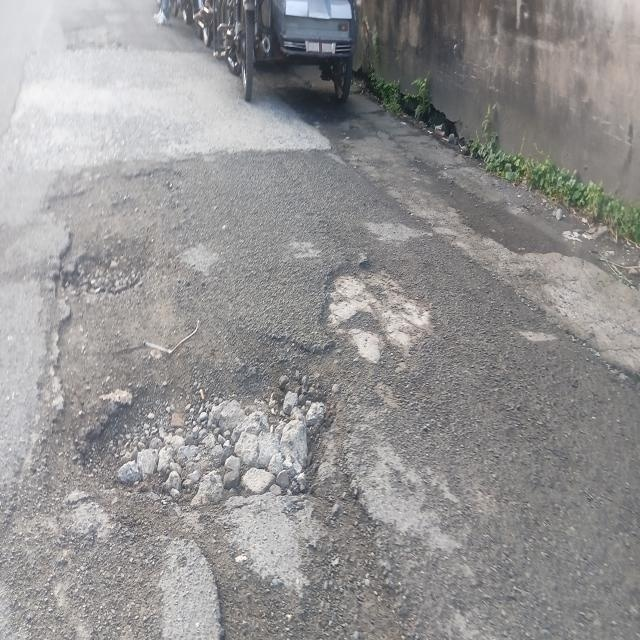pothole: (75, 311, 443, 547)
